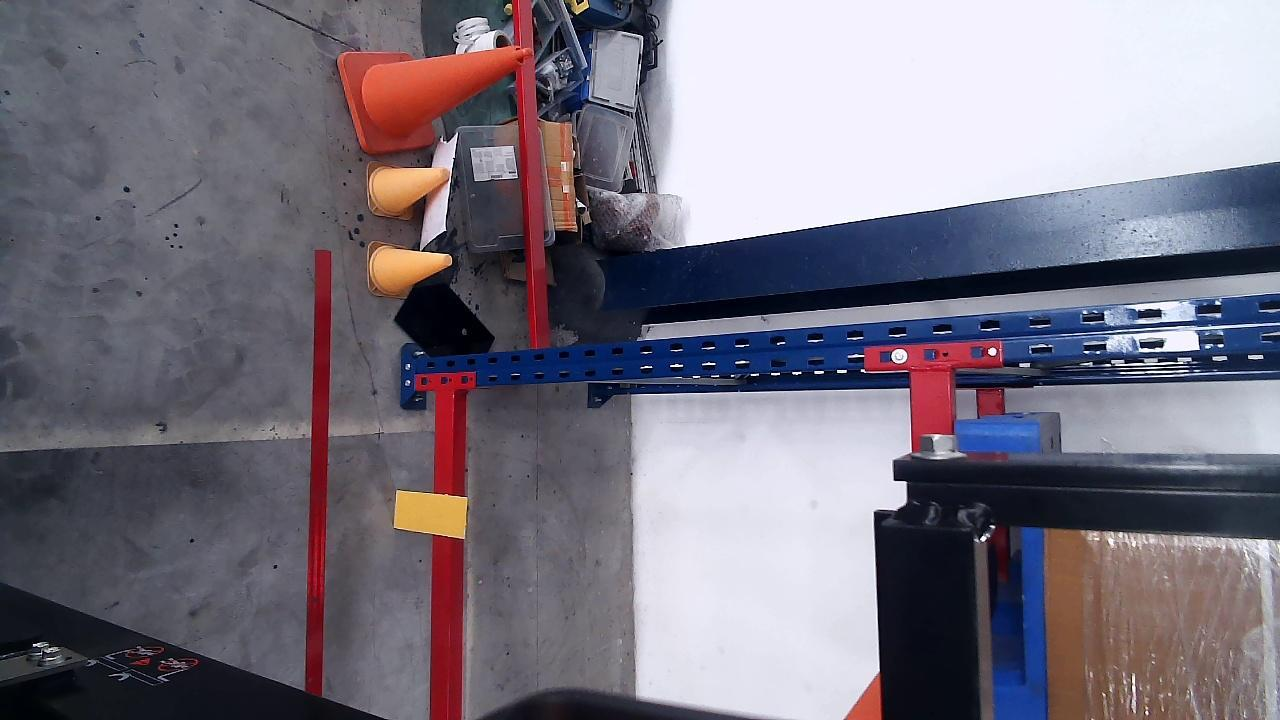h_rack: (396, 490, 466, 539)
orange_strip: (430, 385, 456, 720)
red_line: (306, 247, 330, 699)
